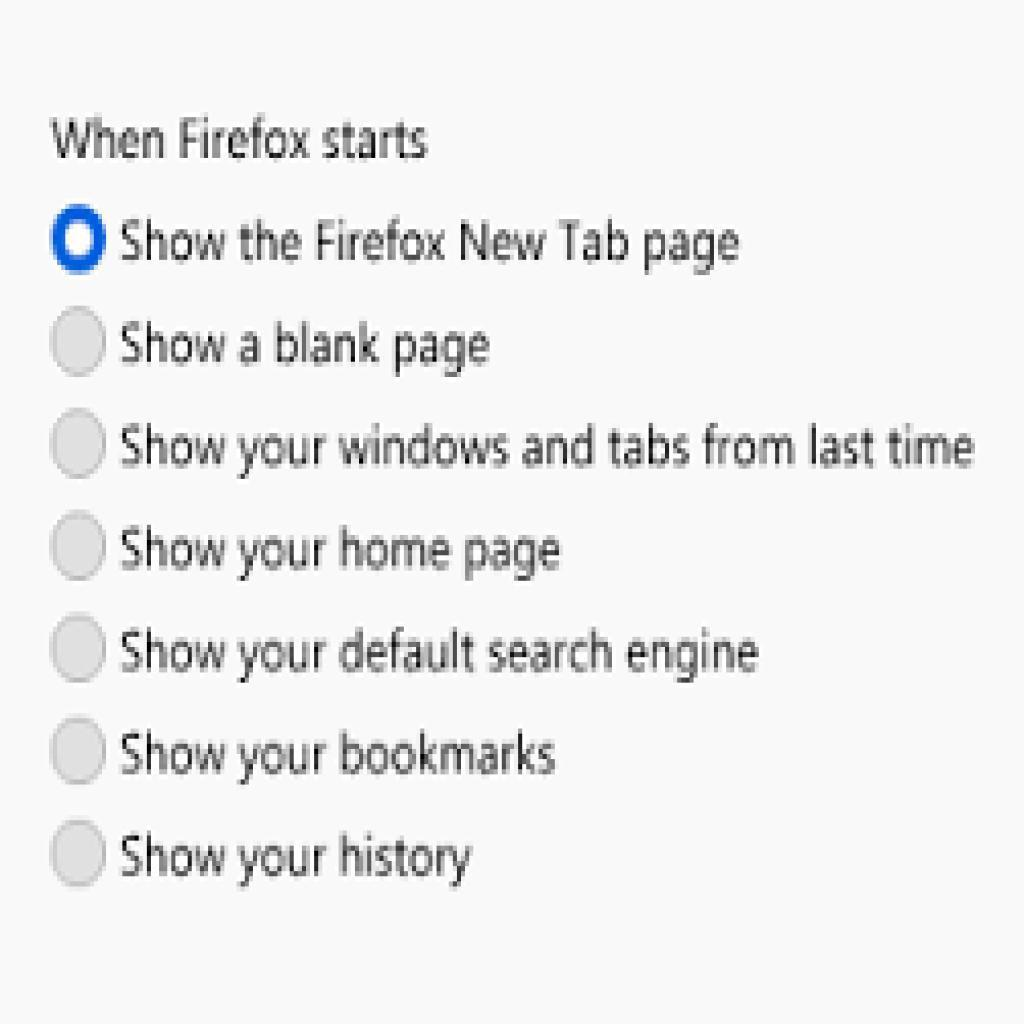radio: (42, 294, 114, 390), (42, 817, 117, 908), (44, 501, 116, 592), (44, 403, 121, 488), (42, 603, 114, 693), (41, 195, 114, 282), (46, 707, 114, 798)
